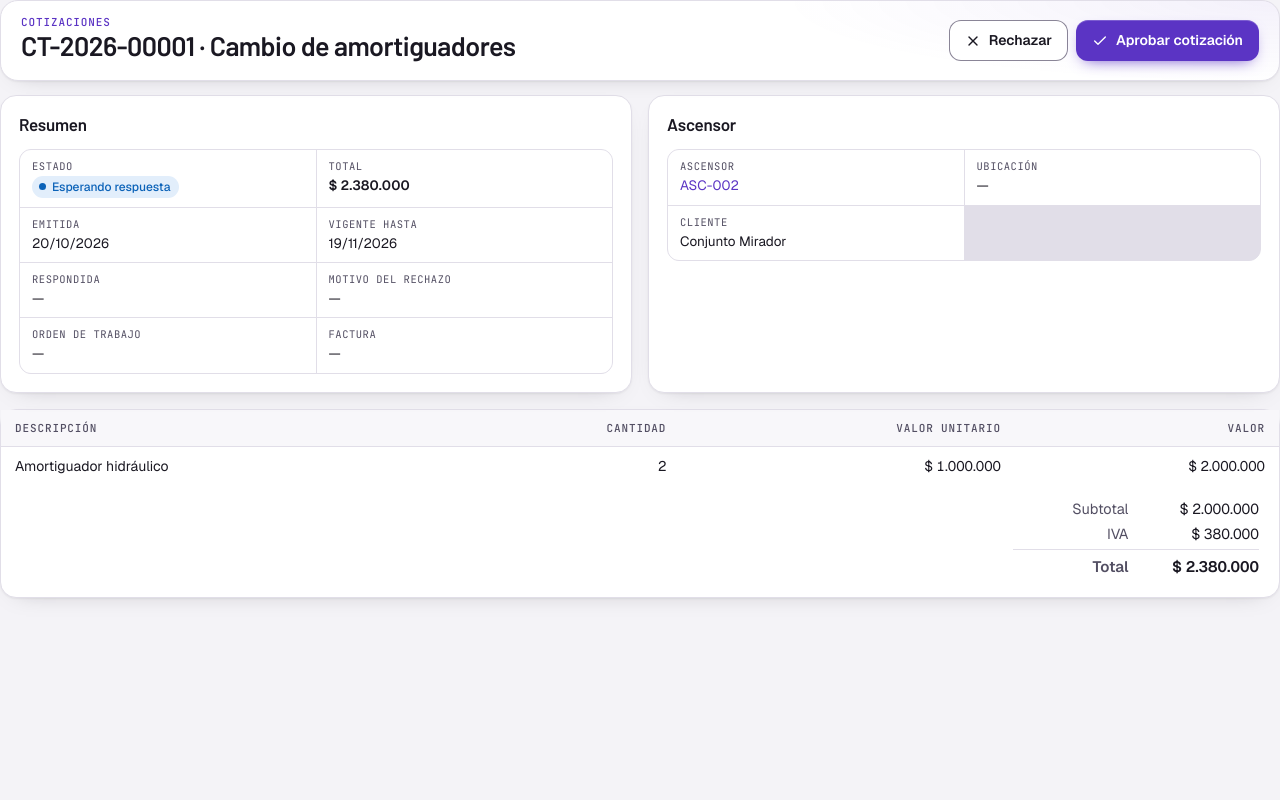
Test case: cotizaciones en el portal del cliente › el cliente aprueba la cotización y ve el nuevo estado
The width and height of the screenshot is (1280, 800).
Click the button "Aprobar cotización".
click(1168, 40)  # box [1076,20,1259,61]
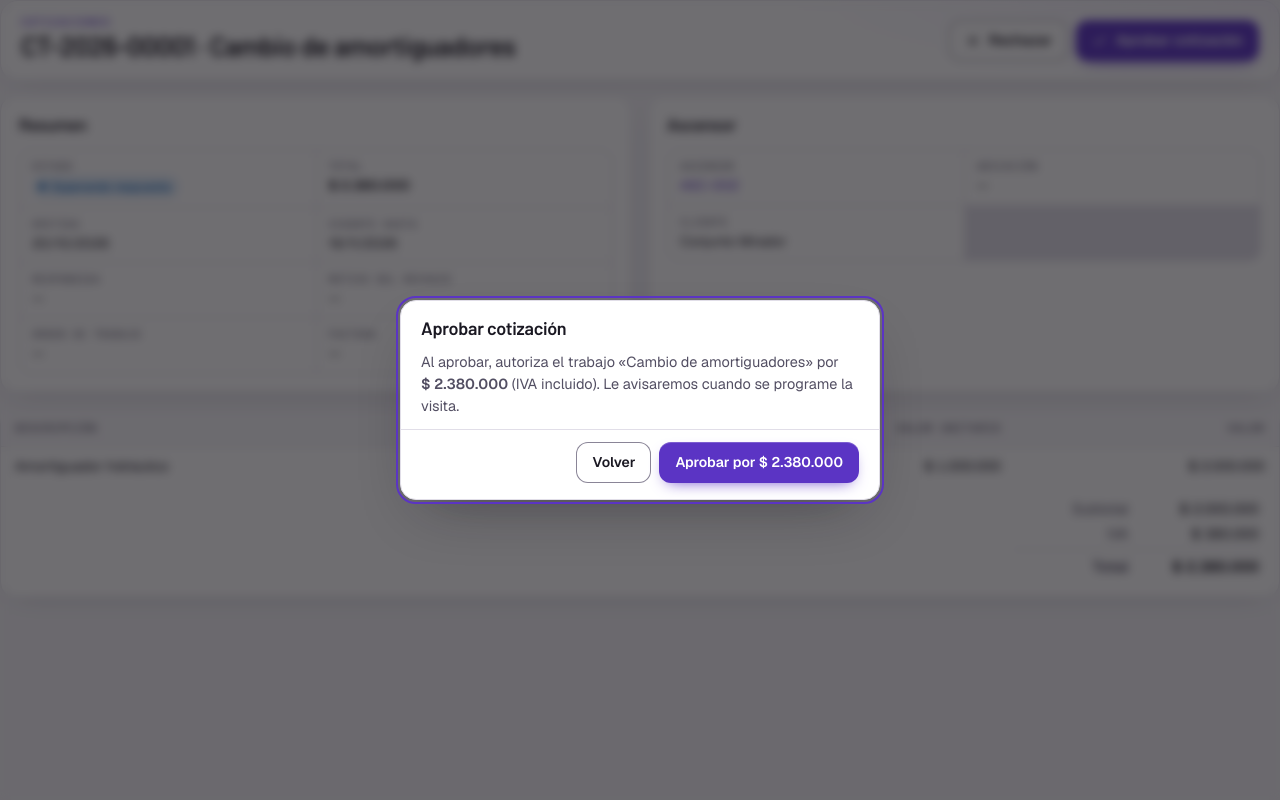
Click the button "Aprobar por $ 2.380.000".
click(759, 462)  # box [659,442,859,483]
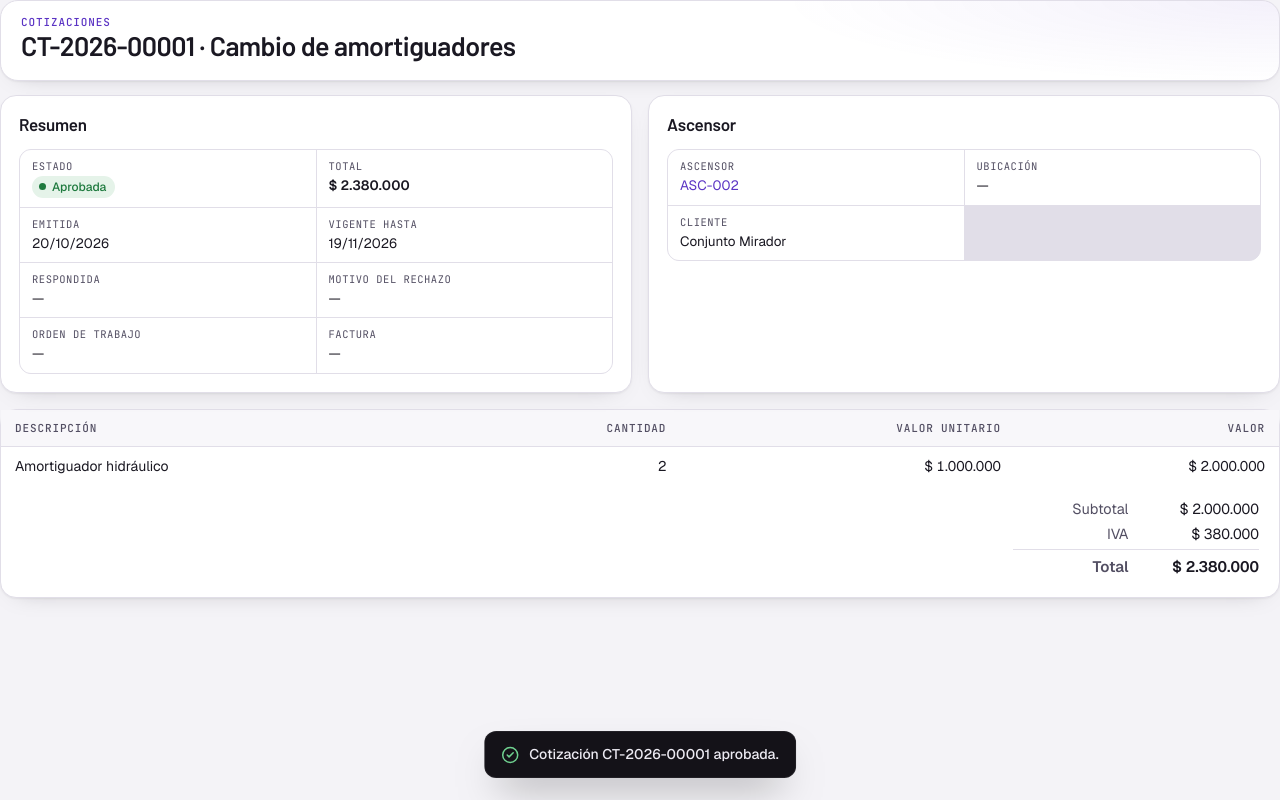
Expected: the text "Aprobada" is shown, [32,176,115,198]
Expected: the button "Aprobar cotización" is gone
